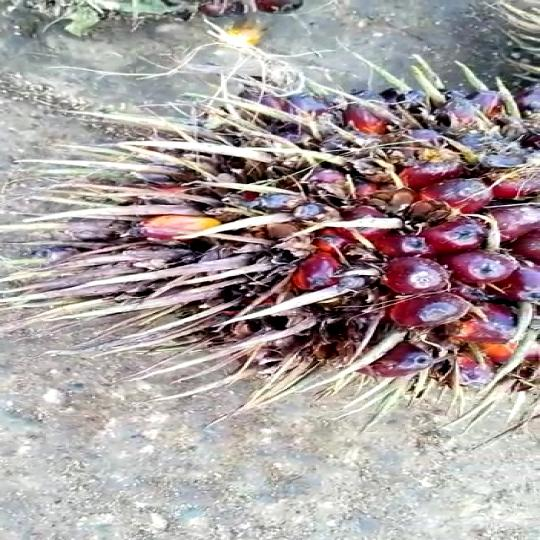masak: (38, 82, 540, 394)
